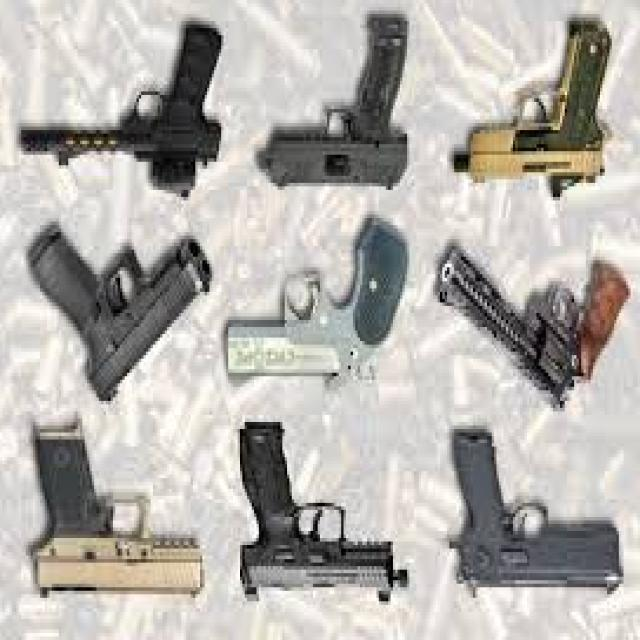Gun: (12, 420, 220, 620), (240, 208, 410, 396)
